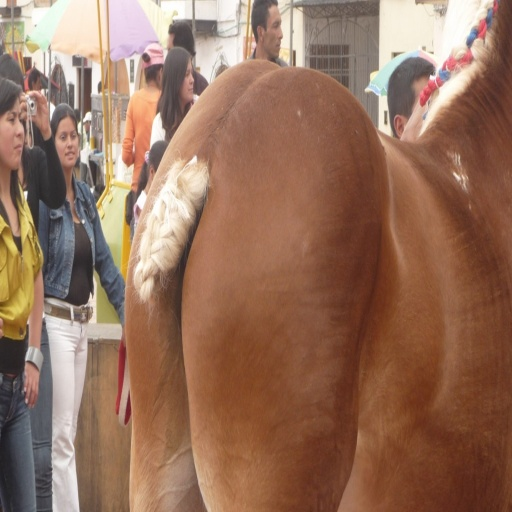hand: (28, 88, 48, 133), (23, 360, 40, 408), (16, 88, 32, 120), (121, 320, 126, 351), (0, 317, 3, 344)
